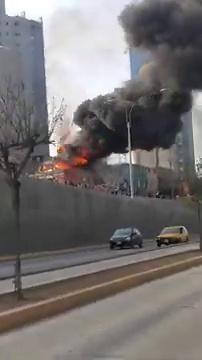smoke: (140, 17, 202, 95), (82, 101, 173, 140)
